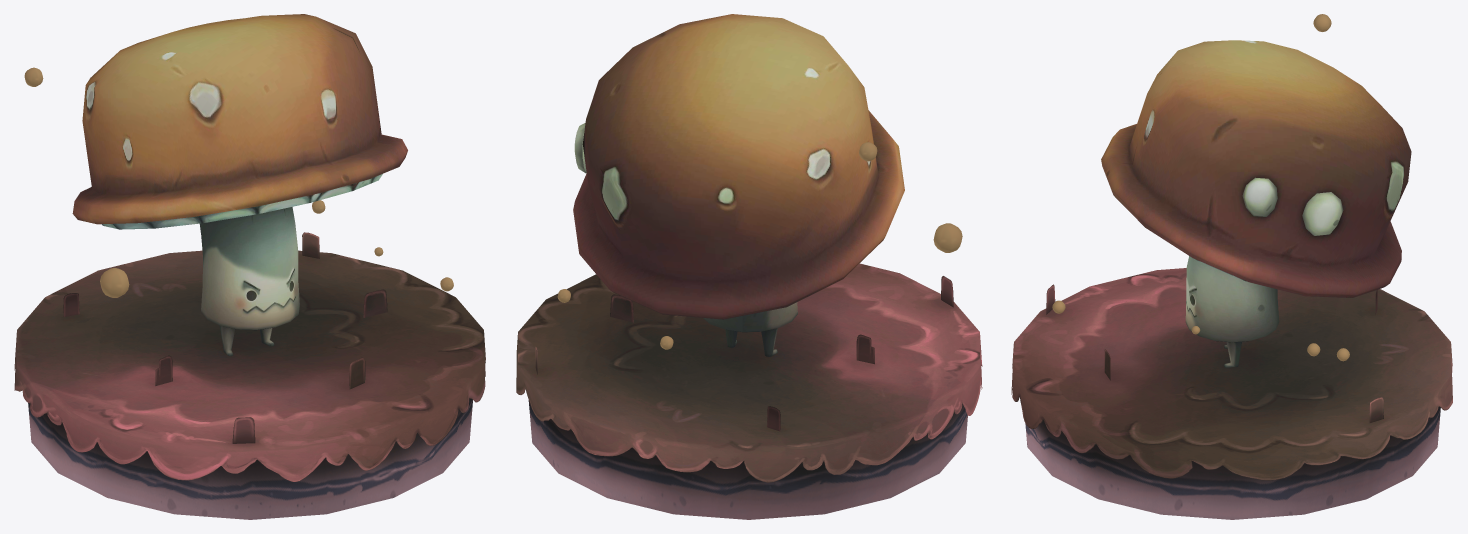
Rendered from mushroom176.gltf.
The picture shows the model from 3 angles, left to right: view 1: azimuth 30°, elevation 25°; view 2: azimuth 150°, elevation 25°; view 3: azimuth 270°, elevation 25°; orthographic projection. The views are drawn at different scales.
Parts seen in each view (by area): view 1: Mesh_0, Mesh_1; view 2: Mesh_0, Mesh_1; view 3: Mesh_0, Mesh_1.
Boxes of the visible parts, bbox=[...] form: Mesh_0: bbox=[14, 67, 485, 519]; Mesh_1: bbox=[72, 14, 407, 356]; Mesh_0: bbox=[516, 142, 982, 519]; Mesh_1: bbox=[573, 14, 904, 356]; Mesh_0: bbox=[1011, 14, 1452, 519]; Mesh_1: bbox=[1101, 40, 1411, 367].
Bounding box in the file's own units: 2.97 × 2.71 × 2.92.
Materials: 2 (2 with a texture image).
